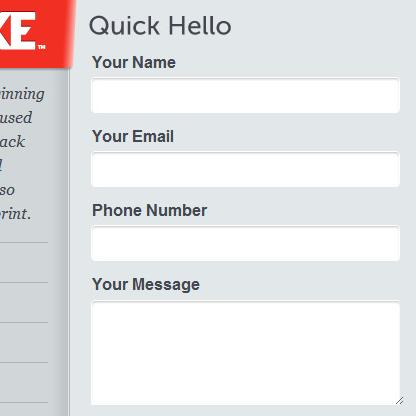field: (89, 299, 402, 406), (91, 75, 402, 115), (91, 150, 400, 189), (88, 225, 401, 262)
field_with_label: (87, 276, 404, 408), (88, 54, 404, 118), (89, 127, 403, 191), (87, 204, 403, 264)
